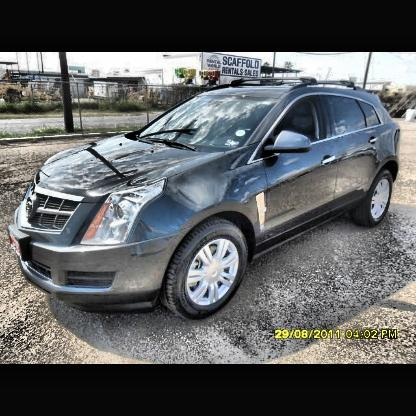Cadillac SRX SUV 2012: (8, 80, 400, 323)
